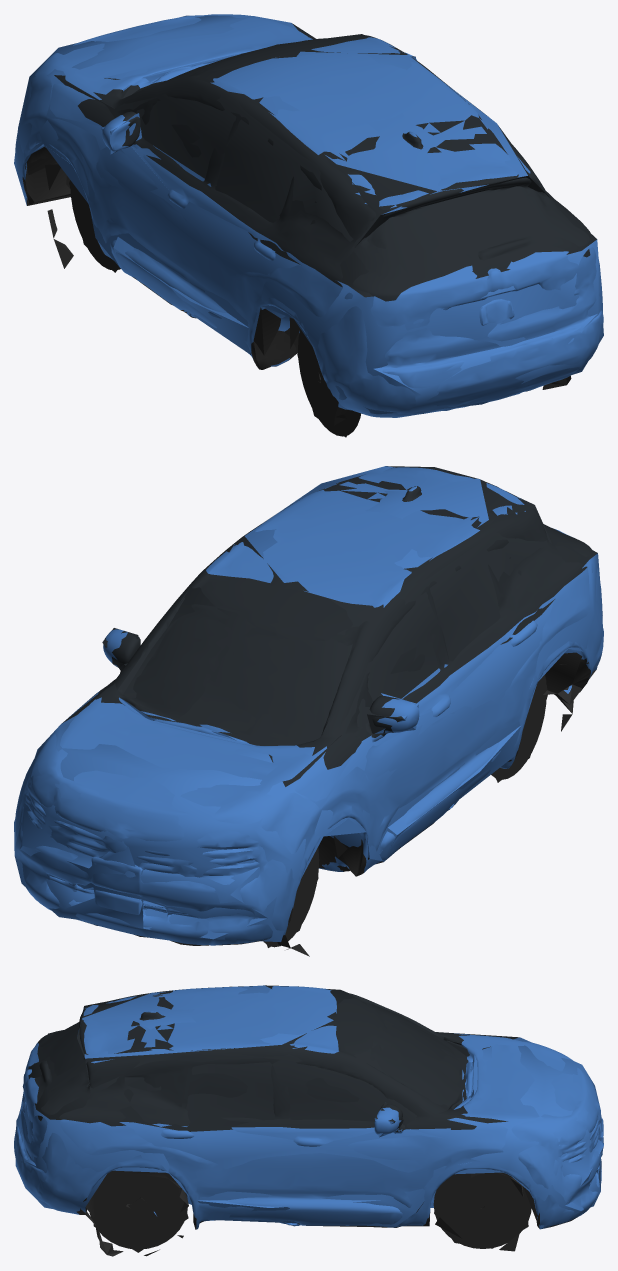
File: nissan-kicks.glb
The picture shows the model from 3 angles, top to bottom: view 1: azimuth 30°, elevation 25°; view 2: azimuth 150°, elevation 25°; view 3: azimuth 270°, elevation 25°; orthographic projection. The views are drawn at different scales.
Visible parts, largest first — view 1: body, far; view 2: body, far; view 3: body, far.
Boxes of the visible parts, x1,y1,x2,y2 form: body: (15, 14, 603, 436); far: (14, 15, 603, 437); body: (15, 467, 603, 956); far: (14, 466, 602, 947); body: (14, 985, 603, 1256); far: (15, 985, 603, 1254).
Bounding box in the file's own units: 2.01 × 1.7 × 4.39.
